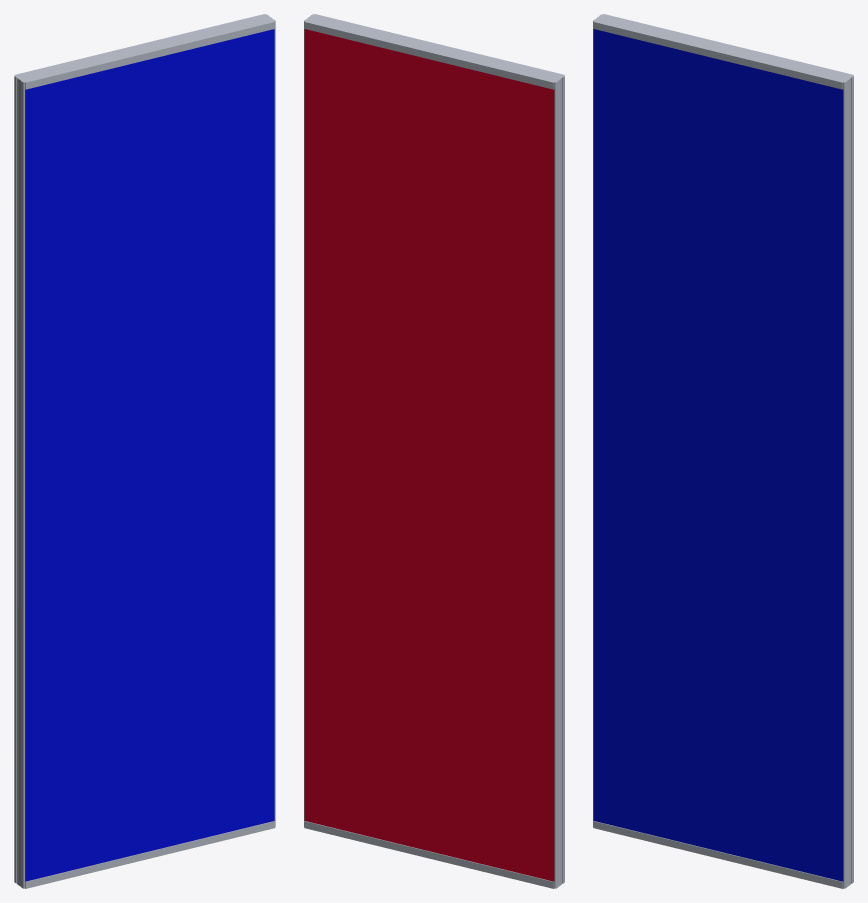
Rendered from tall_thing.fbx.
The picture shows the model from 3 angles, left to right: view 1: azimuth 30°, elevation 25°; view 2: azimuth 150°, elevation 25°; view 3: azimuth 330°, elevation 25°; orthographic projection.
Parts seen in each view (by area): view 1: Body1; view 2: Body1; view 3: Body1.
Boxes of the visible parts, box(x1,y1,x2,y2) form: Body1: box(14, 14, 275, 888); Body1: box(304, 14, 564, 888); Body1: box(593, 14, 853, 888).
Bounding box in the file's own units: 116 × 353 × 8.57.
